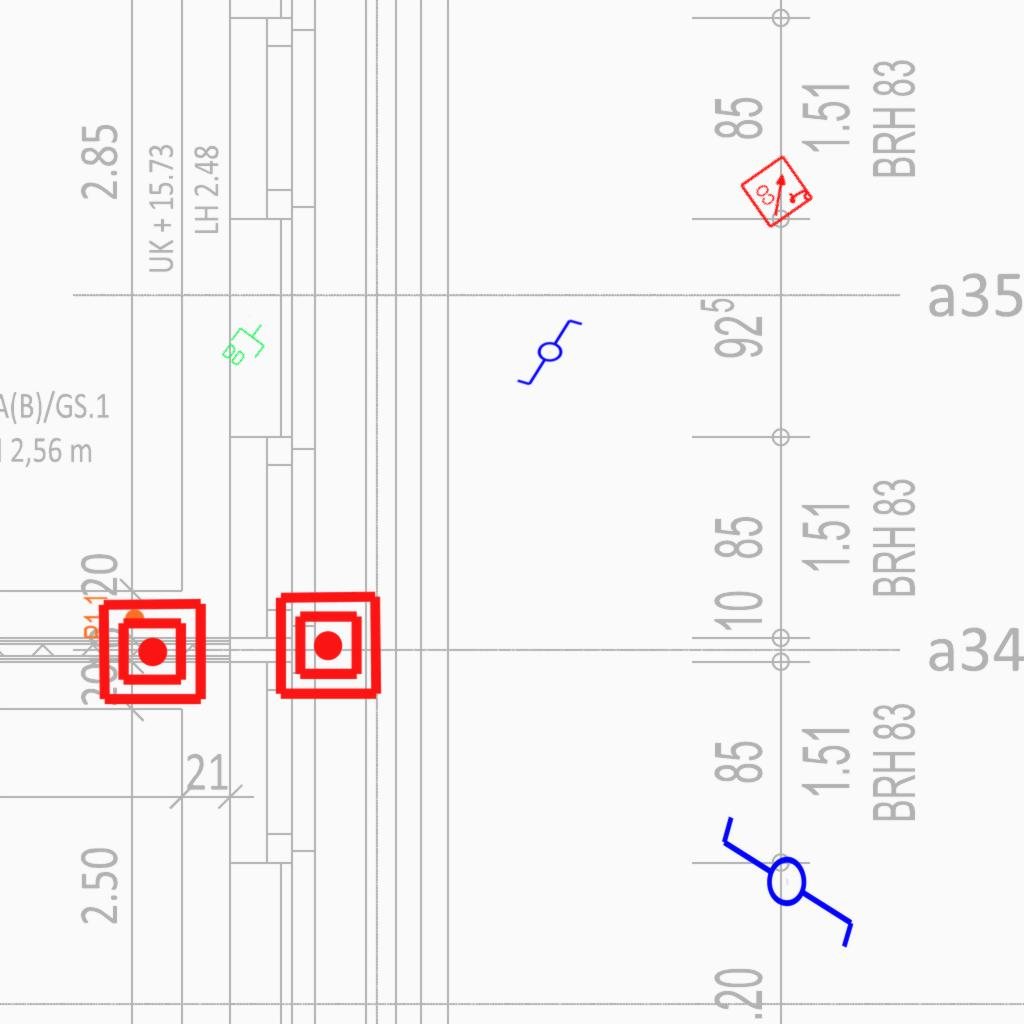Datenanschluss_zweifach: (217, 313, 276, 375)
Downlight_LED_Einbauleuchten_Flur: (82, 594, 146, 640)
NAM-Nichtautomatischer_Melder: (272, 589, 385, 702), (96, 595, 209, 708)
ROA_Rauchmelder_optisch_mit_Signalgeber_(Sockelsirene): (738, 152, 816, 230)
Wechselschalter: (717, 795, 861, 952), (515, 317, 593, 389)
